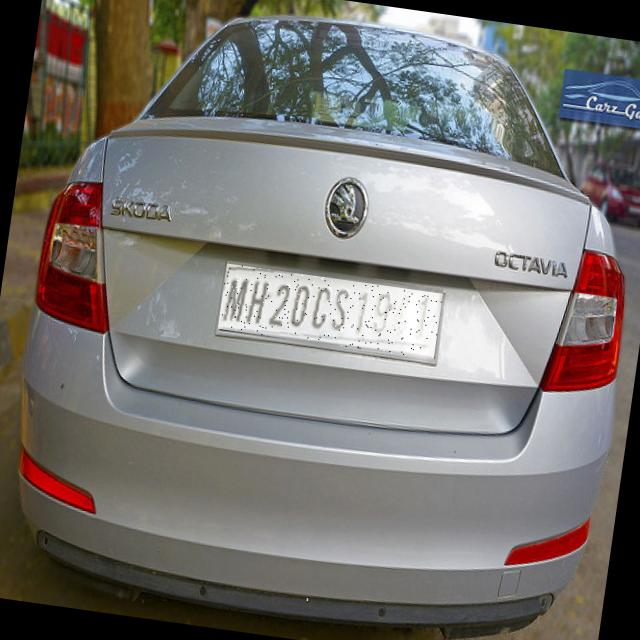Plate: (219, 265, 444, 361)
